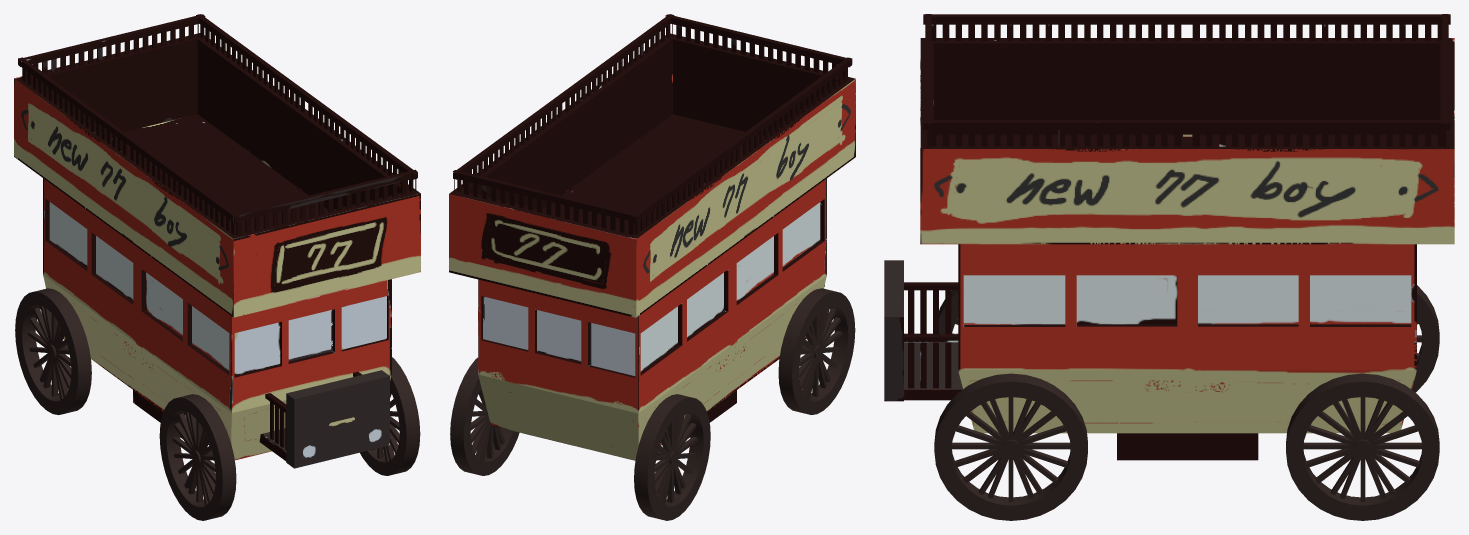
Rendered from qjtm.fbx.
3 renders of one model, left to right at view 1: azimuth 30°, elevation 25°; view 2: azimuth 150°, elevation 25°; view 3: azimuth 270°, elevation 25°, orthographic. The views are drawn at different scales.
Parts seen in each view (by area): view 1: Cube, 큐브.009; view 2: Cube, 큐브.009; view 3: Cube, 큐브.009.
Boxes of the visible parts, x1=… form: Cube: x1=14, y1=14, x2=420, y2=468; 큐브.009: x1=15, y1=288, x2=420, y2=520; Cube: x1=449, y1=14, x2=855, y2=460; 큐브.009: x1=450, y1=288, x2=855, y2=520; Cube: x1=884, y1=14, x2=1454, y2=460; 큐브.009: x1=934, y1=285, x2=1439, y2=520.
Bounding box in the file's own units: 14.58 × 22.86 × 30.
Materials: 2 (1 with a texture image).
